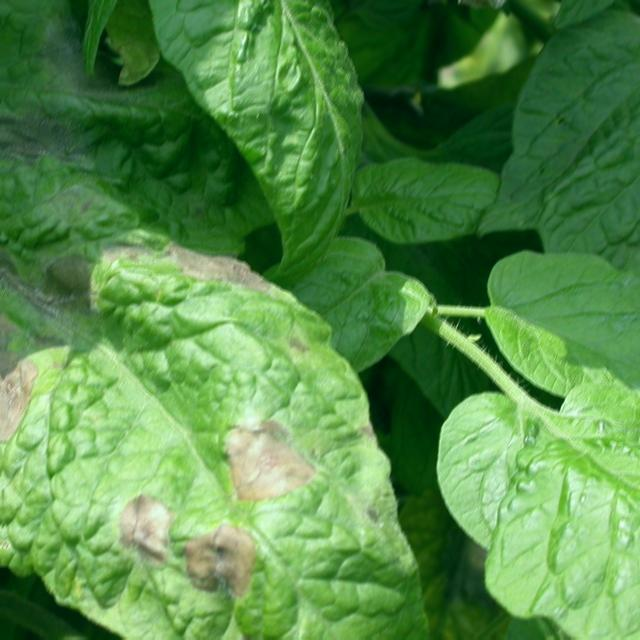Tomato leaf late blight: (0, 64, 420, 640), (494, 0, 640, 312)
